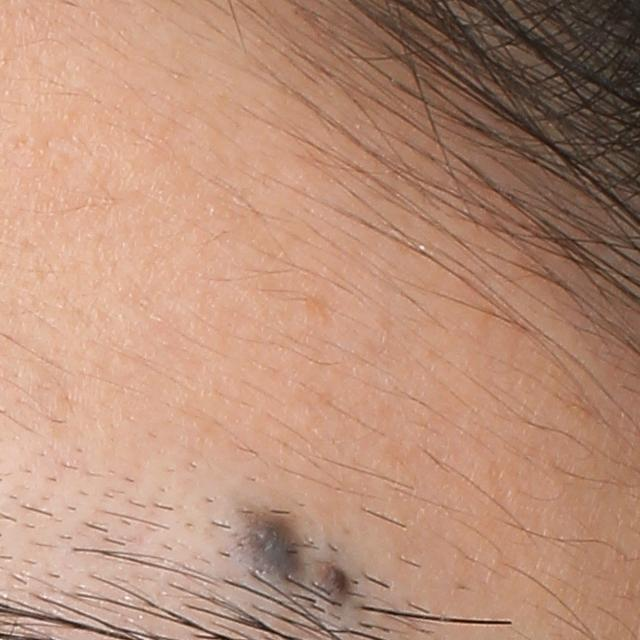nevus: (246, 504, 304, 588), (324, 566, 356, 604)
